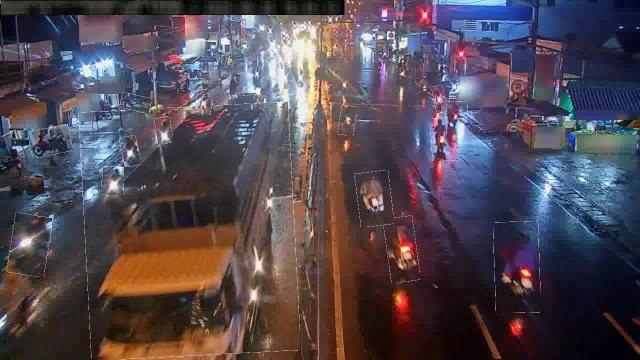Bike: (494, 222, 540, 314), (10, 214, 50, 276), (386, 216, 418, 282), (356, 171, 392, 227), (28, 126, 72, 158), (432, 118, 456, 162), (446, 102, 468, 136), (120, 136, 140, 168), (102, 166, 124, 195), (120, 94, 152, 112), (338, 105, 356, 135), (156, 116, 172, 144), (195, 89, 212, 115), (434, 86, 446, 114), (230, 74, 244, 96)
Truck: (82, 105, 298, 358)
